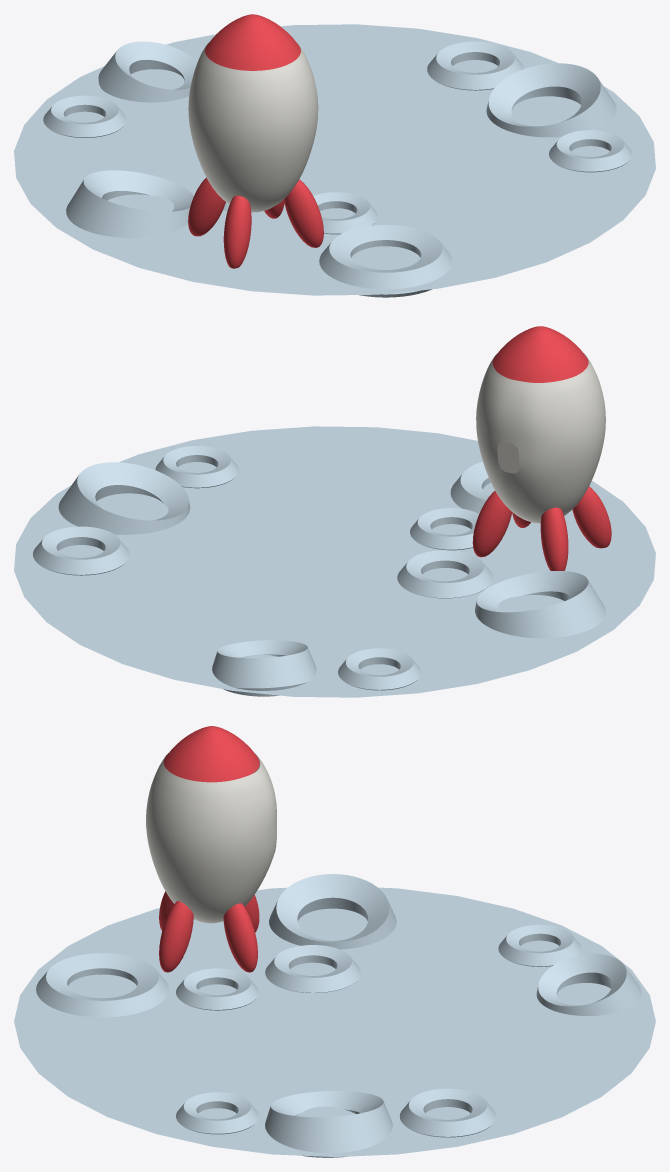
The model's file is moon_scene_craters_baked.fbx.
3 views of the same model, one above another, from view 1: azimuth 30°, elevation 25°; view 2: azimuth 150°, elevation 25°; view 3: azimuth 270°, elevation 25° (orthographic).
Visible parts, largest first — view 1: Circle, Sphere.001, Torus.001, Torus.007, Torus.002, Torus.009, Sphere.002, Torus.006, Torus.005, Torus.010, Torus.004, Leg (+2 smaller); view 2: Circle, Sphere.001, Torus.001, Torus.007, Torus.009, Sphere.002, Torus.006, Torus.003, Torus.010, Torus.005, Torus.004, Leg.002 (+3 smaller); view 3: Circle, Sphere.001, Torus.007, Torus.001, Torus.002, Torus.009, Sphere.002, Torus.006, Torus.003, Torus.004, Torus.005, Torus.010 (+2 smaller).
Boxes of the visible parts, <box> form: Circle: <box>14,24,655,295</box>; Sphere.001: <box>188,42,318,212</box>; Torus.001: <box>66,170,193,237</box>; Torus.007: <box>486,63,616,137</box>; Torus.002: <box>319,225,452,297</box>; Torus.009: <box>98,41,197,102</box>; Sphere.002: <box>205,14,300,70</box>; Torus.006: <box>427,41,523,90</box>; Torus.005: <box>549,130,632,172</box>; Torus.010: <box>43,95,126,137</box>; Torus.004: <box>313,192,377,234</box>; Leg: <box>284,179,323,247</box>; Circle: <box>14,426,655,697</box>; Sphere.001: <box>476,353,605,523</box>; Torus.001: <box>475,571,605,638</box>; Torus.007: <box>58,462,190,534</box>; Torus.009: <box>212,640,316,696</box>; Sphere.002: <box>492,326,588,382</box>; Torus.006: <box>33,526,129,575</box>; Torus.003: <box>397,550,493,598</box>; Torus.010: <box>338,648,421,690</box>; Torus.005: <box>155,446,238,488</box>; Torus.004: <box>410,508,478,550</box>; Leg.002: <box>472,491,512,557</box>; Circle: <box>14,887,655,1156</box>; Sphere.001: <box>146,753,276,923</box>; Torus.007: <box>265,1091,392,1157</box>; Torus.001: <box>269,874,396,949</box>; Torus.002: <box>36,953,168,1017</box>; Torus.009: <box>536,953,641,1015</box>; Sphere.002: <box>163,726,259,782</box>; Torus.006: <box>399,1088,496,1137</box>; Torus.003: <box>265,945,360,992</box>; Torus.004: <box>176,968,258,1010</box>; Torus.005: <box>176,1092,258,1134</box>; Torus.010: <box>498,924,581,966</box>.
Size of the model in its own units: 1191 by 477 by 1191.
